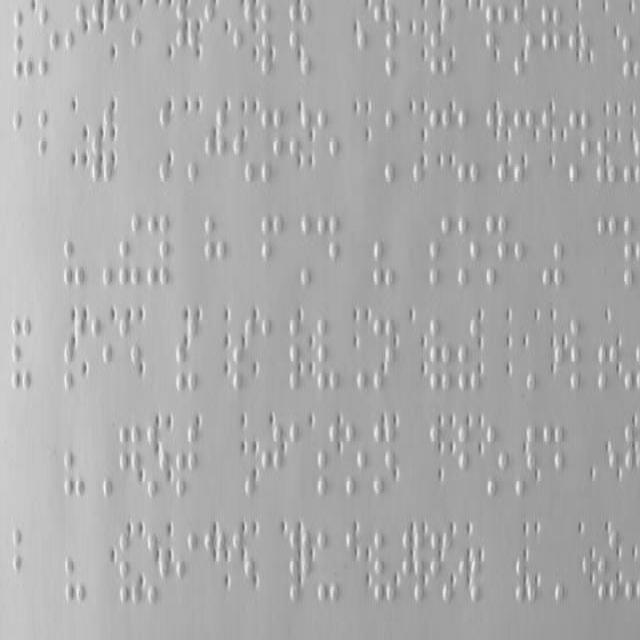braiile: (11, 526, 35, 612), (569, 312, 593, 394), (260, 314, 286, 388), (260, 106, 284, 186), (384, 104, 408, 184), (116, 316, 140, 396), (316, 314, 340, 394), (344, 422, 368, 502), (371, 526, 395, 606), (38, 109, 61, 189), (316, 104, 339, 184), (203, 211, 227, 287), (288, 420, 312, 496), (316, 528, 340, 604), (118, 1, 142, 75), (427, 214, 451, 288), (484, 214, 508, 288), (12, 109, 34, 189), (90, 316, 112, 396), (372, 420, 394, 500), (175, 529, 197, 609), (540, 6, 562, 84), (118, 423, 140, 501), (457, 423, 479, 501), (542, 421, 564, 499), (456, 214, 479, 288), (568, 109, 590, 184), (176, 421, 197, 499), (147, 214, 169, 288), (260, 214, 282, 288), (317, 214, 339, 288), (487, 422, 507, 502), (12, 9, 34, 80), (231, 5, 253, 76), (458, 108, 478, 186), (38, 5, 58, 79), (596, 215, 618, 282), (203, 1, 224, 70)
